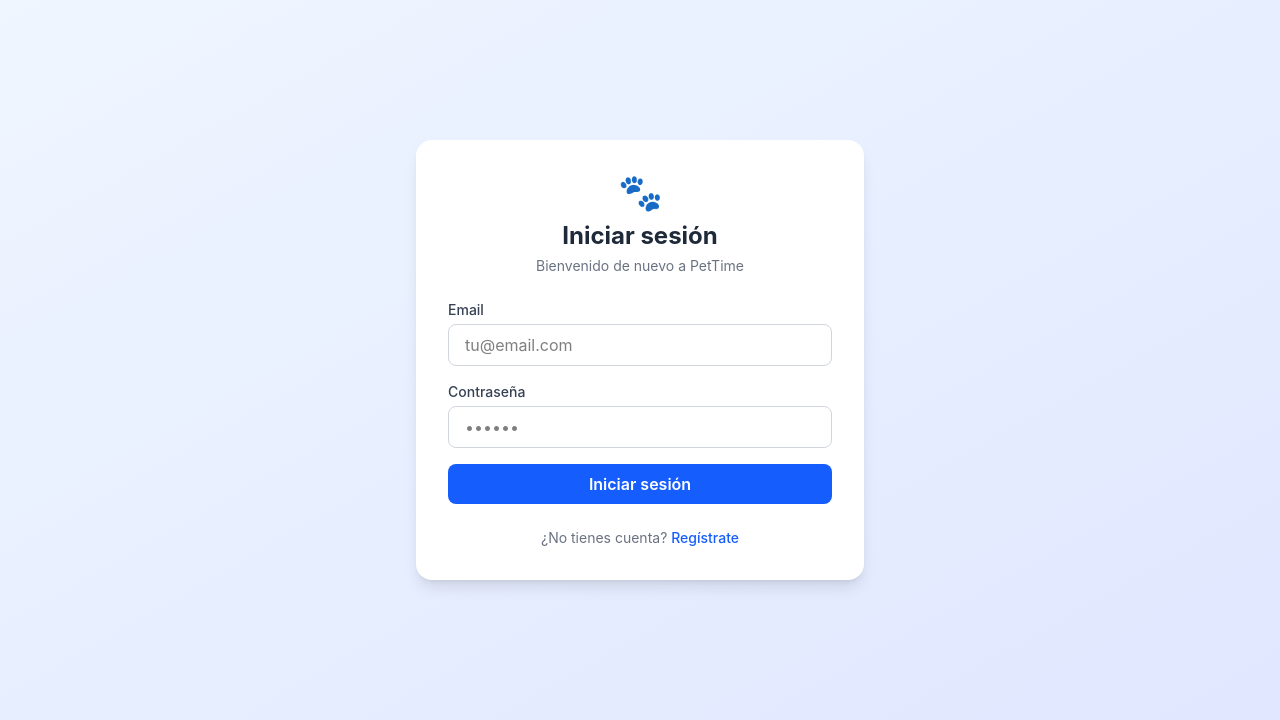
Scenario: Mascotas › oculta el formulario al hacer click en Cancelar
The width and height of the screenshot is (1280, 720).
Type "test@test.com" into the field named "email" at [640, 345], box [448, 324, 832, 366]
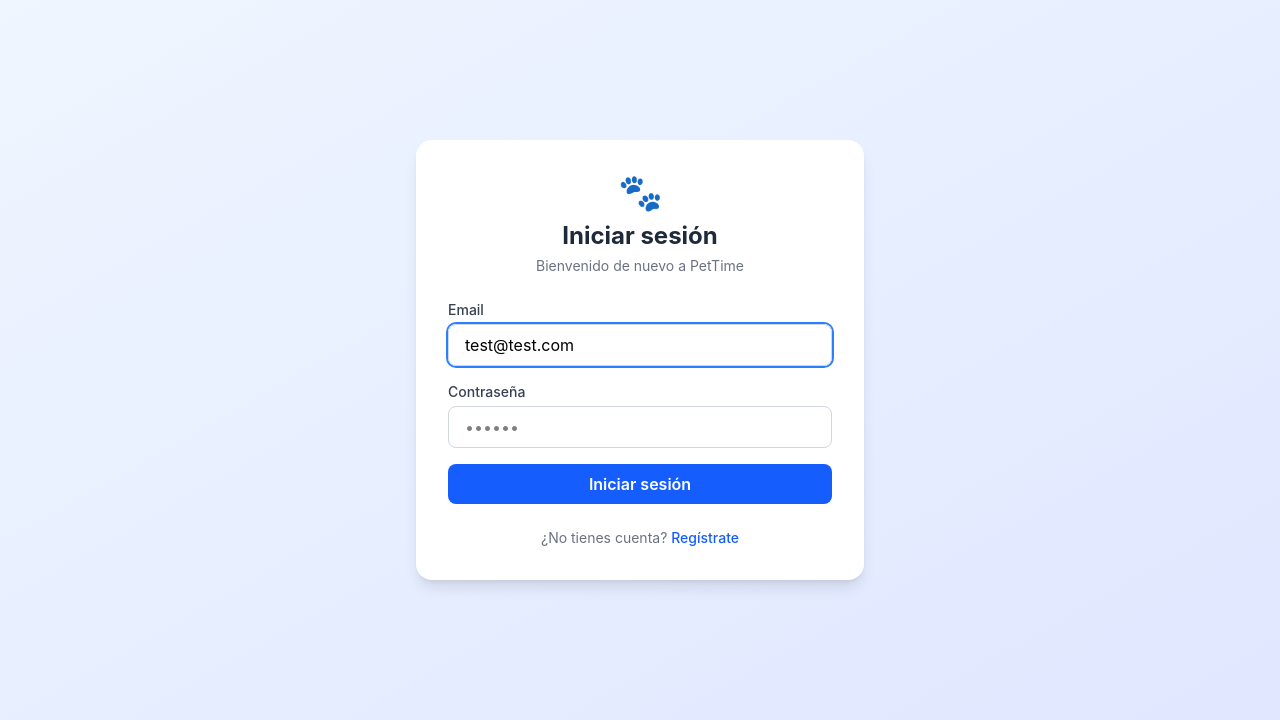
Type "password123" into the password field named "password" at [640, 427], box [448, 406, 832, 448]
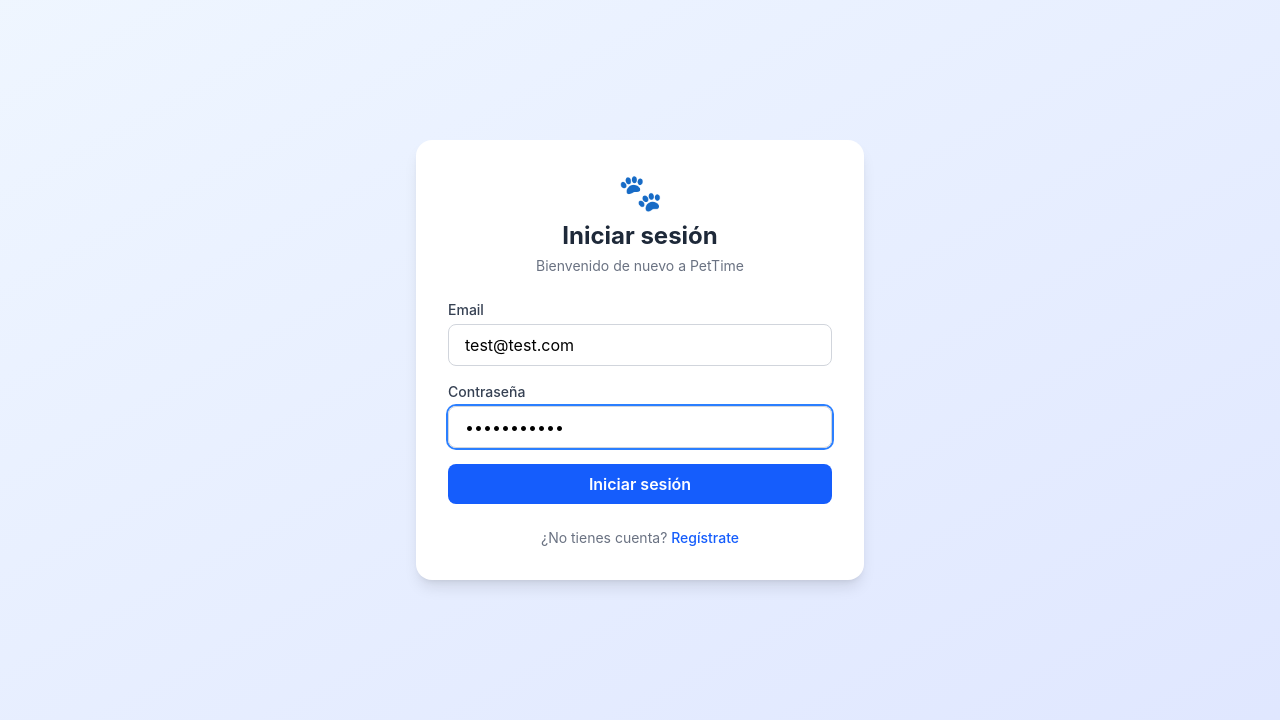
Click the submit button at [640, 484], box [448, 464, 832, 504]
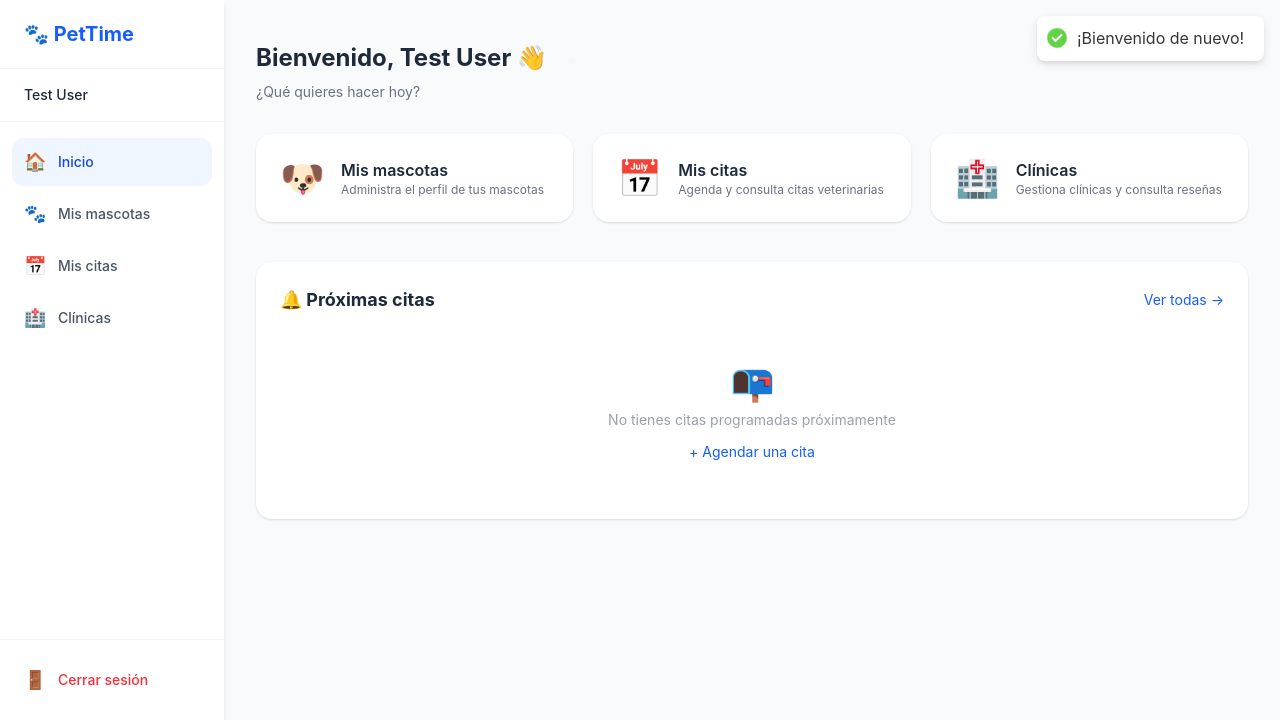
Open "/pets"
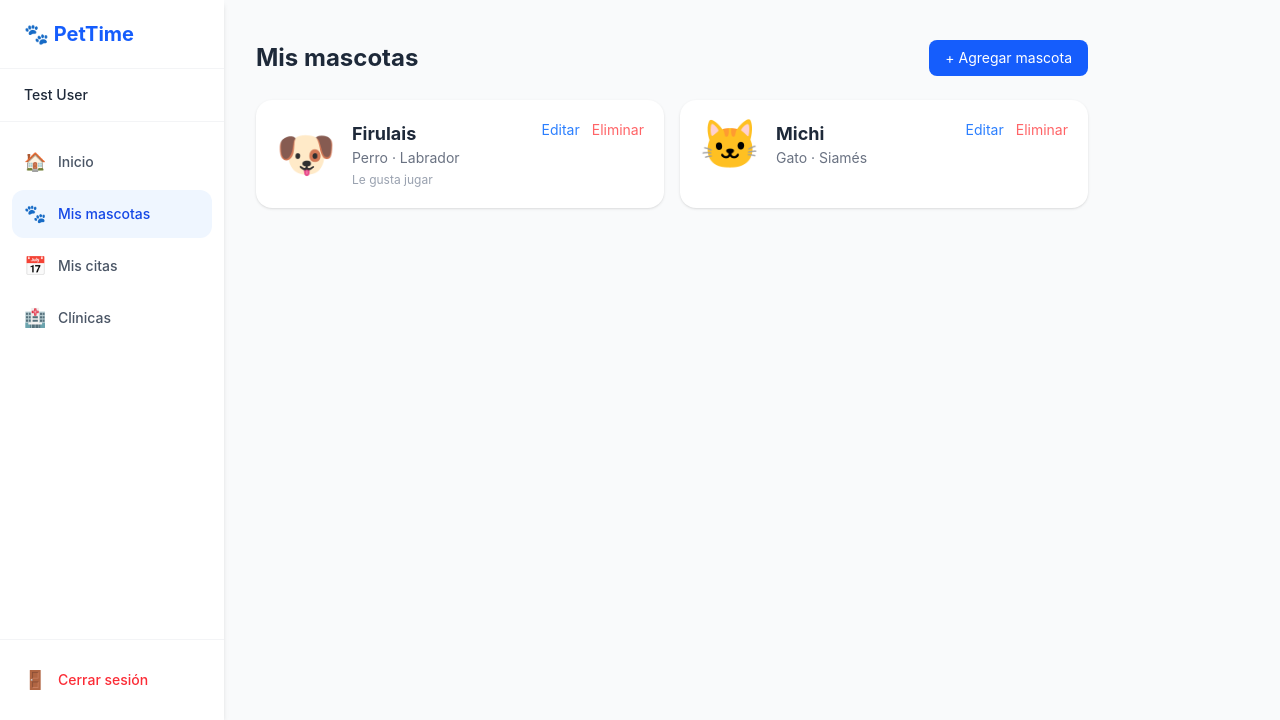
Click the button "+ Agregar mascota" at [1009, 58], box [929, 40, 1088, 76]
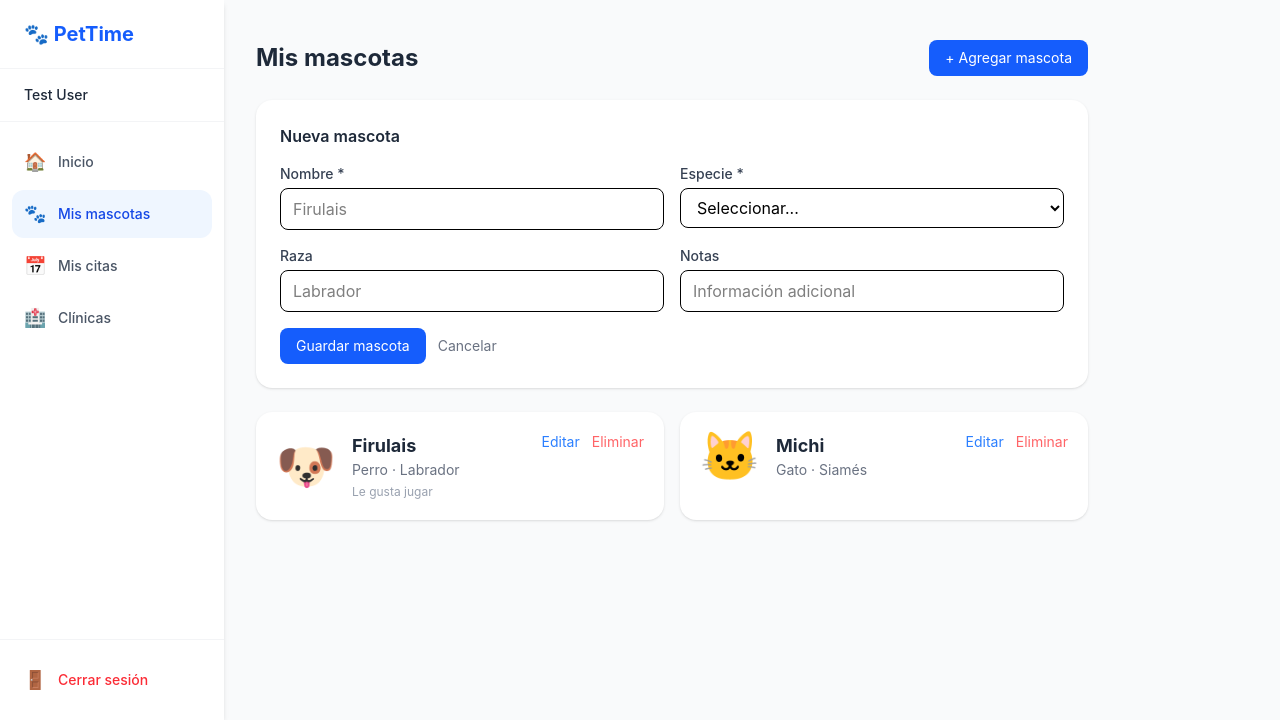
Expected: the heading "Nueva mascota" is shown, [280, 126, 400, 146]
Click the button "Cancelar" at [468, 346], box [438, 328, 497, 364]
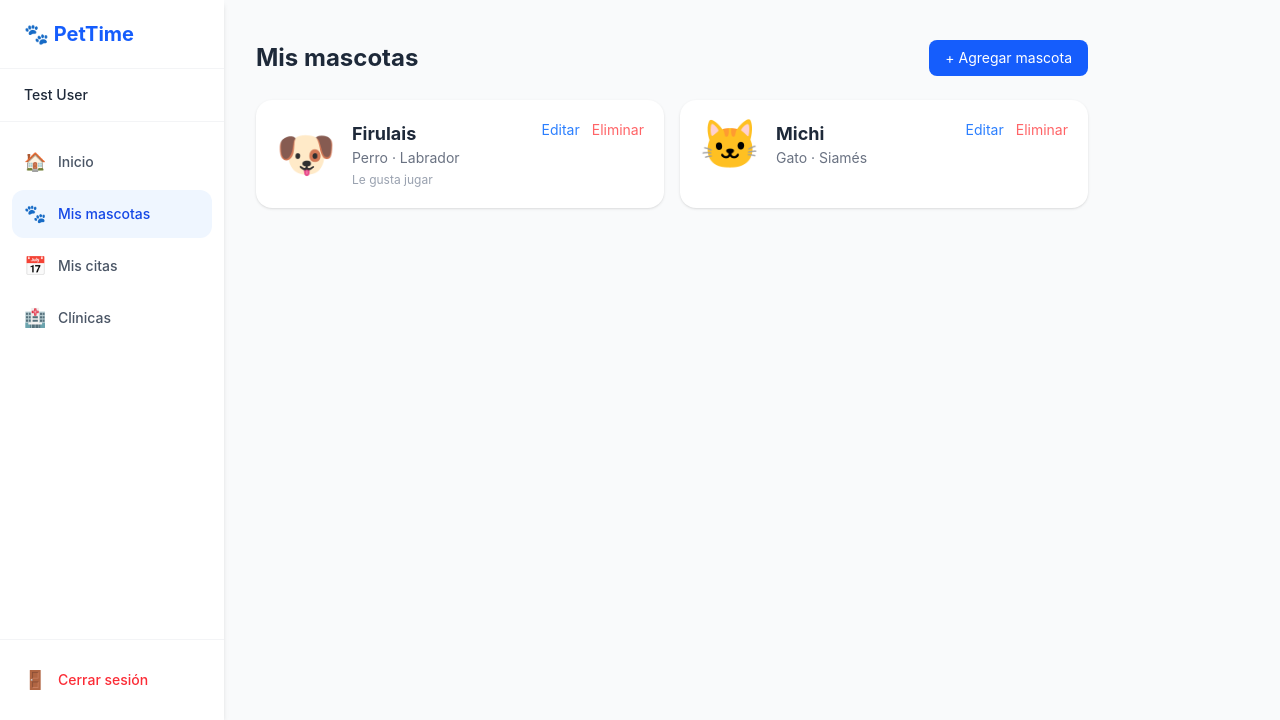
Expected: the heading "Nueva mascota" is gone
